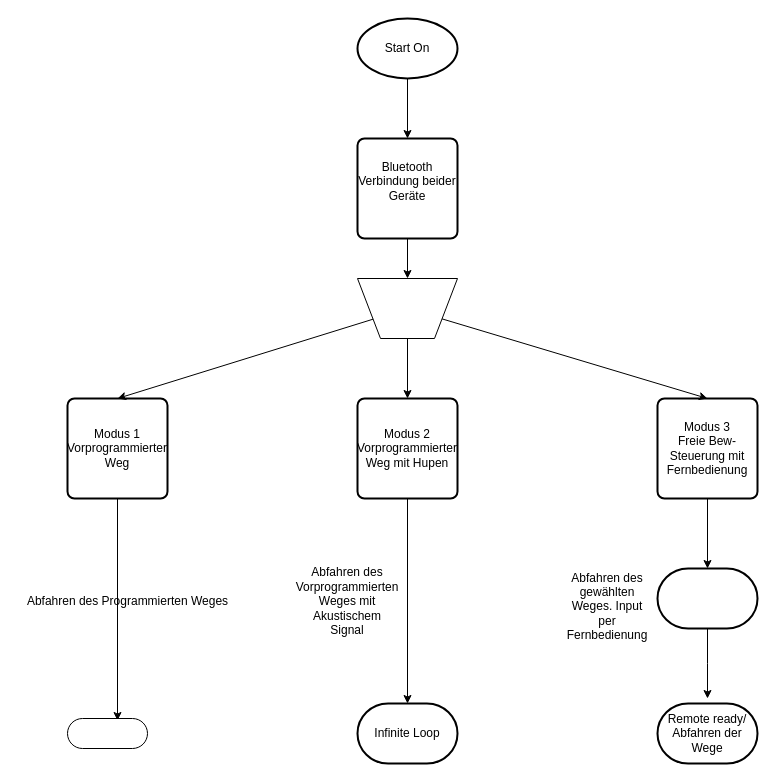
This 775x781 diagram has some shape labels left out. Each missing label, with the centre of its shape:
Fernbedienung: point (707, 598)
Fertig: point (107, 733)
Modiwahl 1, 2, oder 3: point (407, 308)
